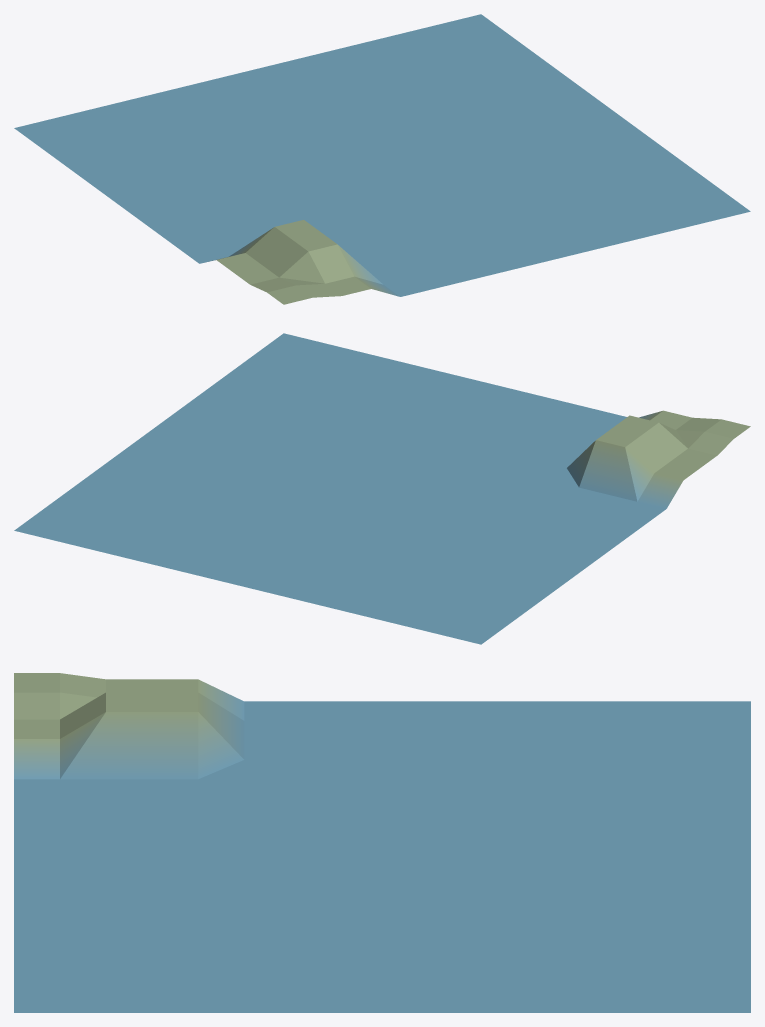
The picture shows the model from 3 angles, top to bottom: view 1: azimuth 30°, elevation 25°; view 2: azimuth 150°, elevation 25°; view 3: azimuth 270°, elevation 25°; orthographic projection. The views are drawn at different scales.
Bounding box in the file's own units: 32 × 2.3 × 32.
